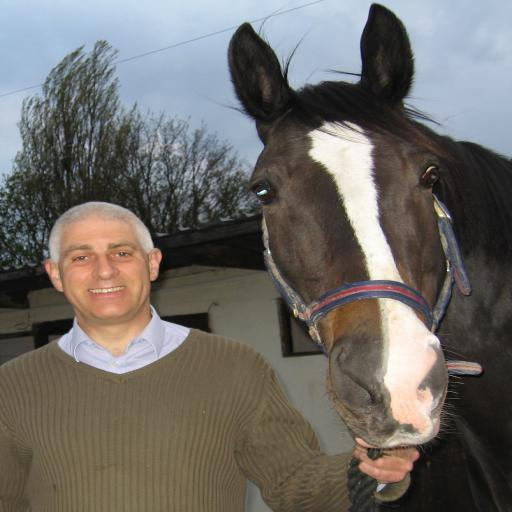Horse: (204, 0, 512, 512)
